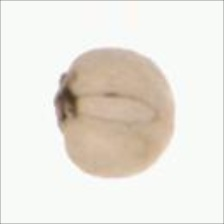L5: (77, 91, 162, 129), (147, 97, 181, 159), (51, 68, 80, 138)
L6: (50, 46, 178, 180)
